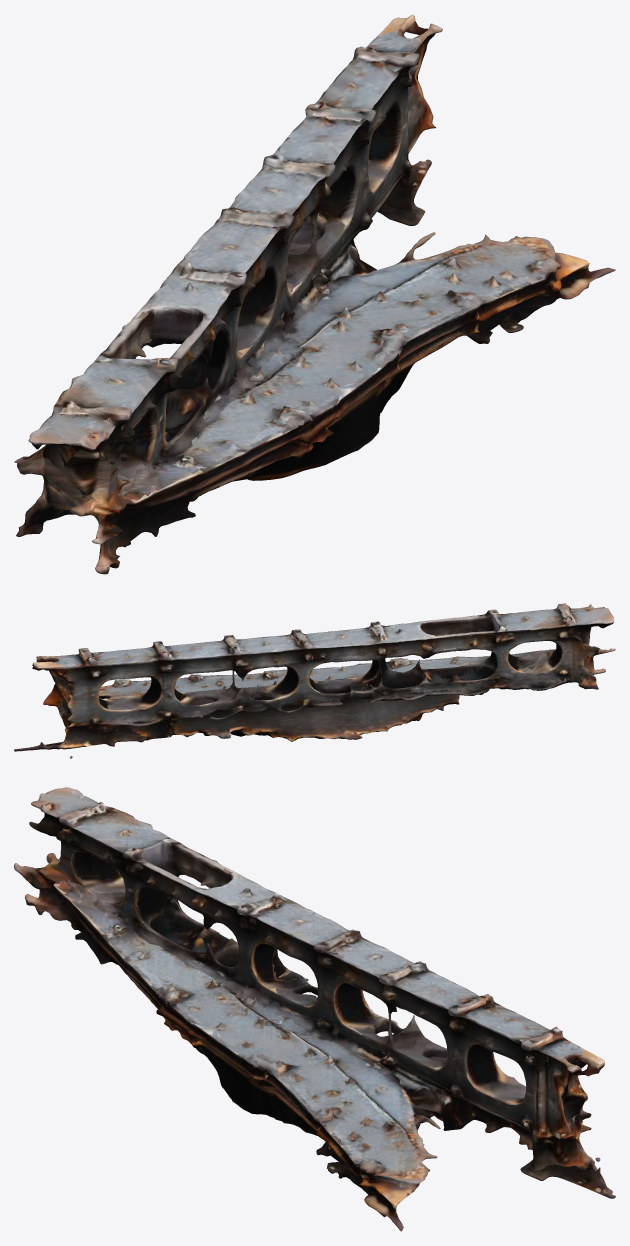
The model's file is girdersection.glb.
3 views of the same model, one above another, from view 1: azimuth 30°, elevation 25°; view 2: azimuth 150°, elevation 25°; view 3: azimuth 270°, elevation 25° (orthographic). The views are drawn at different scales.
Visible parts, largest first — view 1: input; view 2: input; view 3: input.
Part boxes in pixels (bbox=[...]): input: bbox=[14, 14, 615, 574]; input: bbox=[14, 603, 615, 758]; input: bbox=[14, 787, 615, 1231].
Bounding box in the file's own units: 2 × 0.4876 × 1.68.
1 material, 1 textured.
